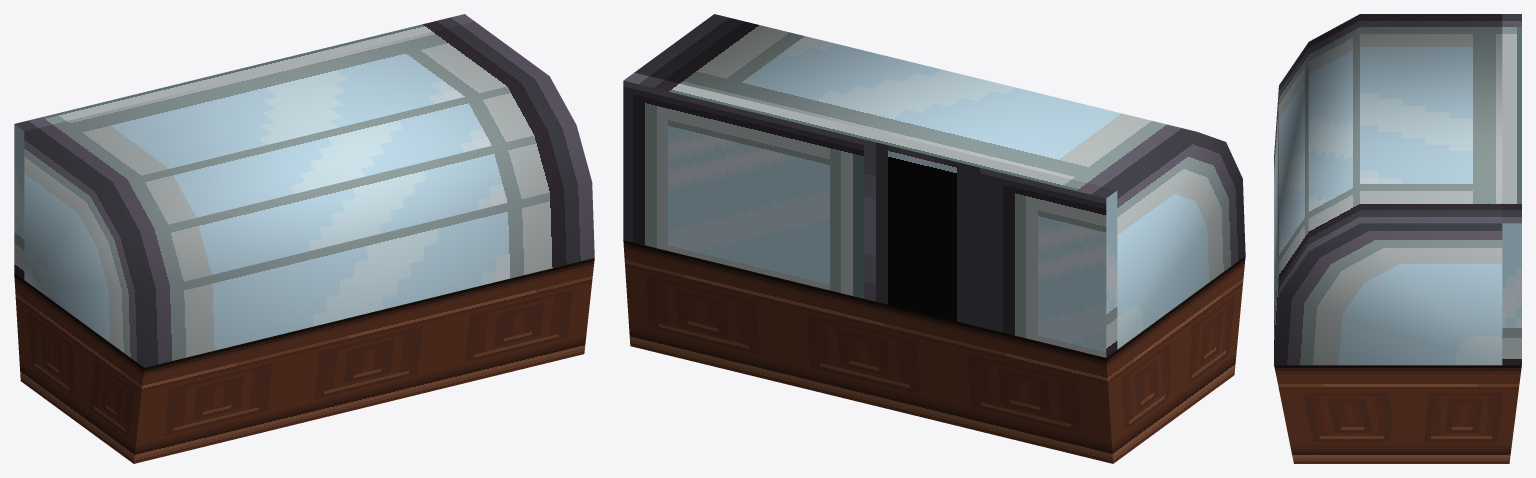
3 renders of one model, left to right at view 1: azimuth 30°, elevation 25°; view 2: azimuth 150°, elevation 25°; view 3: azimuth 270°, elevation 25°, orthographic. The views are drawn at different scales.
Visible parts, largest first — view 1: 3632sh_tana00; view 2: 3632sh_tana00; view 3: 3632sh_tana00.
Boxes of the visible parts, left/top/right/bottom form: 3632sh_tana00: left=14, top=14, right=594, bottom=463; 3632sh_tana00: left=623, top=14, right=1245, bottom=463; 3632sh_tana00: left=1274, top=14, right=1521, bottom=463.
Bounding box in the file's own units: 2 × 1.07 × 1.
Materials: 3 (3 with a texture image).
